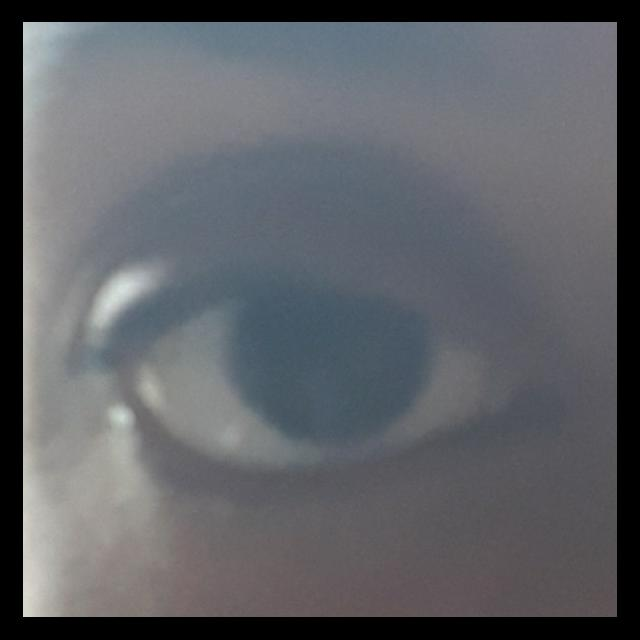eye: (127, 291, 486, 475)
iris: (223, 298, 434, 448)
